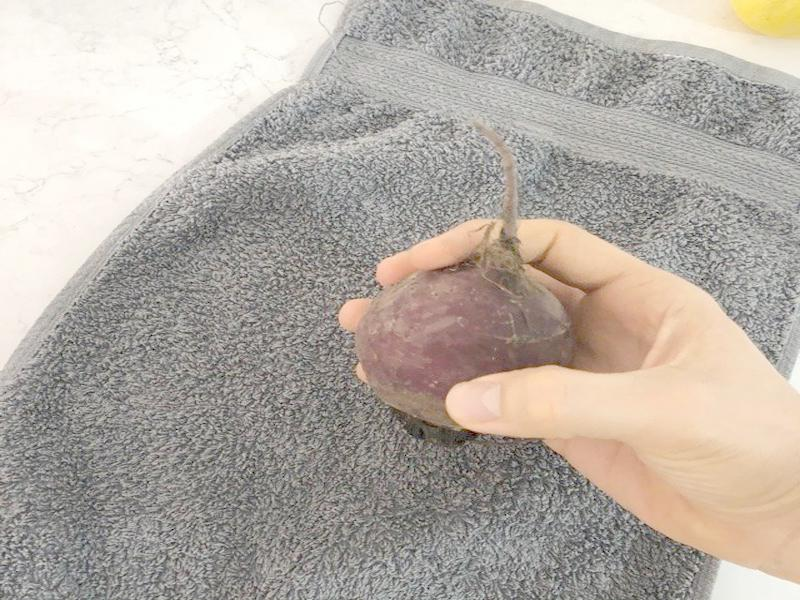Beet: (355, 119, 574, 446)
